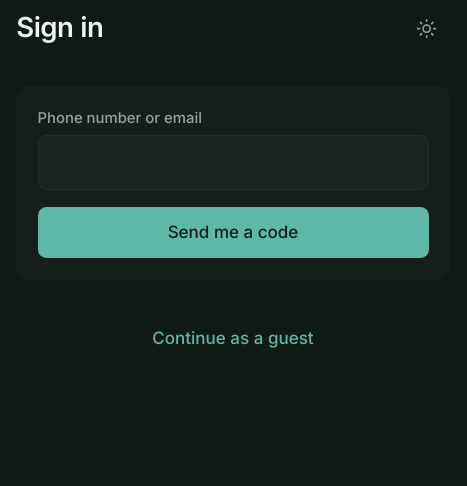
Test: being rate limited › says to wait rather than blaming the address
Click the button "Send me a code" at (233, 233), box [38,207,428,258]
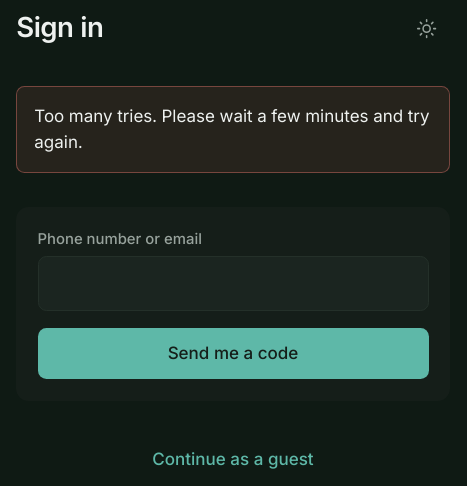
expect the message reads "Too many tries. Please wait a few minutes and try again.": met, box [34,106,430,152]
